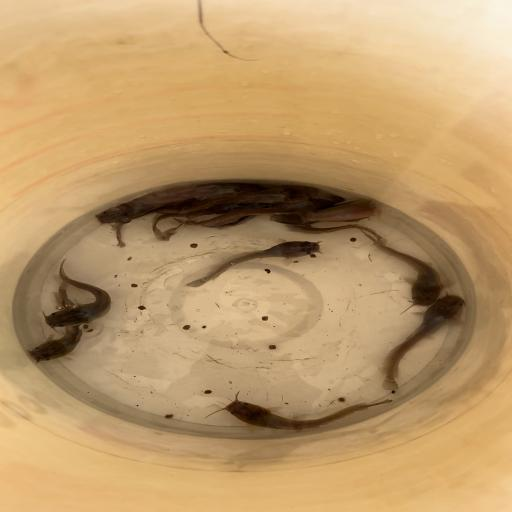lele: (382, 294, 465, 390), (186, 238, 324, 289), (220, 394, 394, 432), (357, 231, 444, 307), (92, 184, 238, 224), (178, 195, 346, 226), (42, 258, 113, 329), (158, 184, 318, 215), (30, 280, 86, 366), (106, 200, 192, 250), (152, 203, 240, 242), (118, 181, 266, 204), (267, 198, 381, 225), (286, 224, 389, 244)
